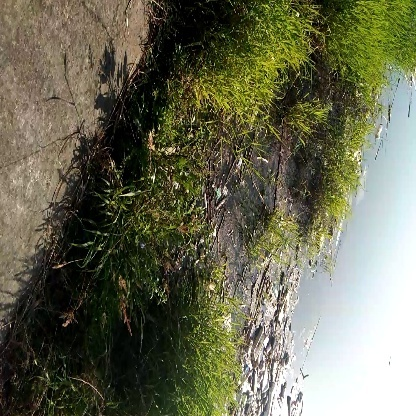grass: (161, 317, 235, 416)
